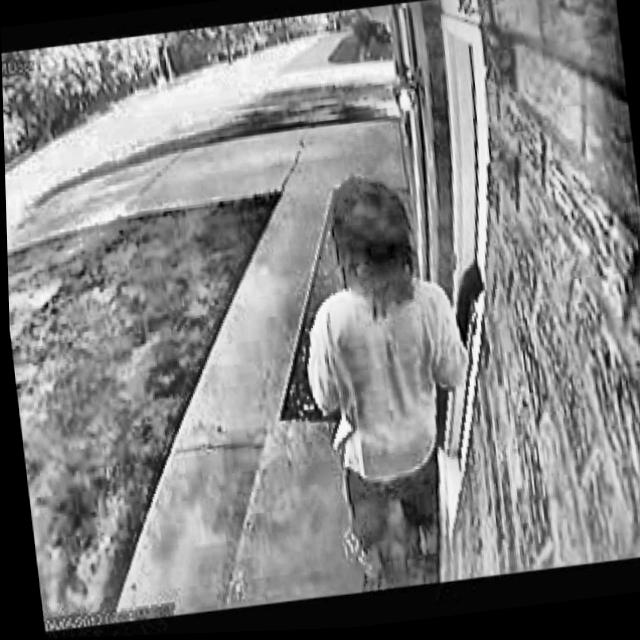burglary: (272, 129, 526, 601)
